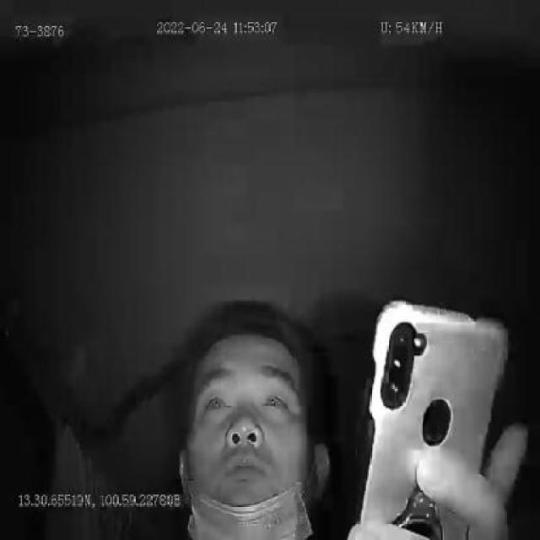phone: (358, 289, 510, 540)
